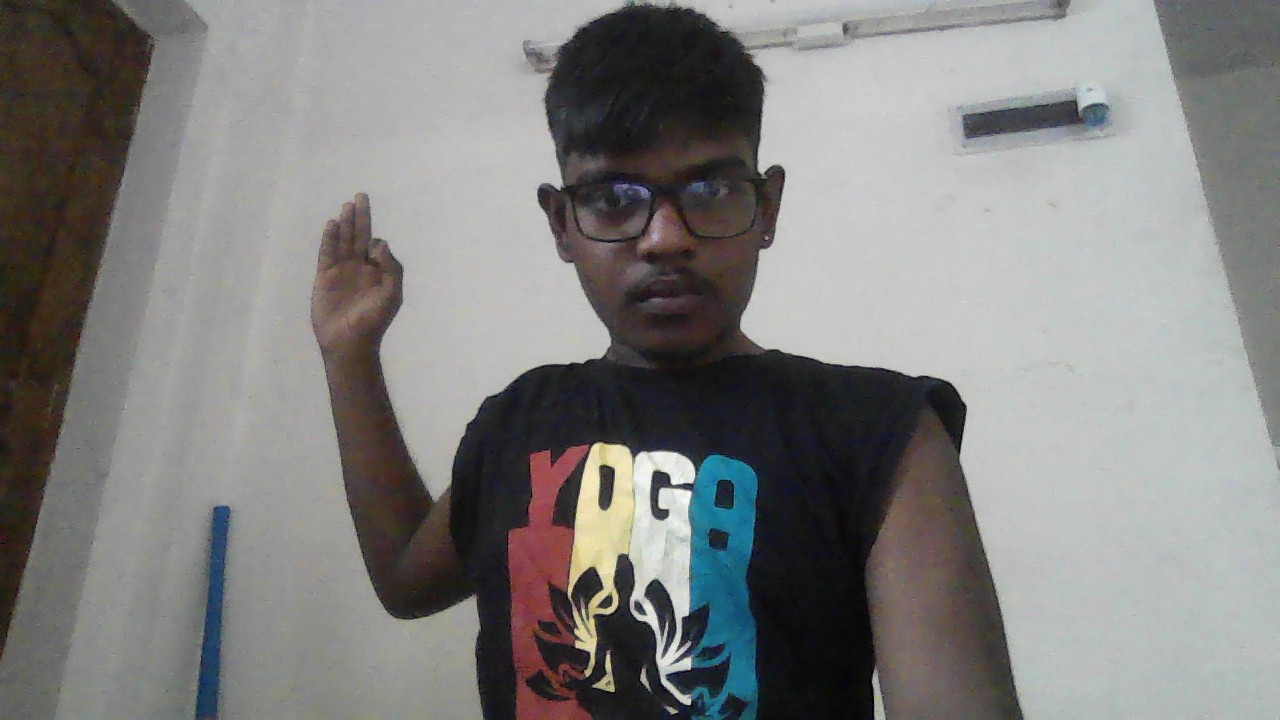F: (310, 194, 404, 384)
